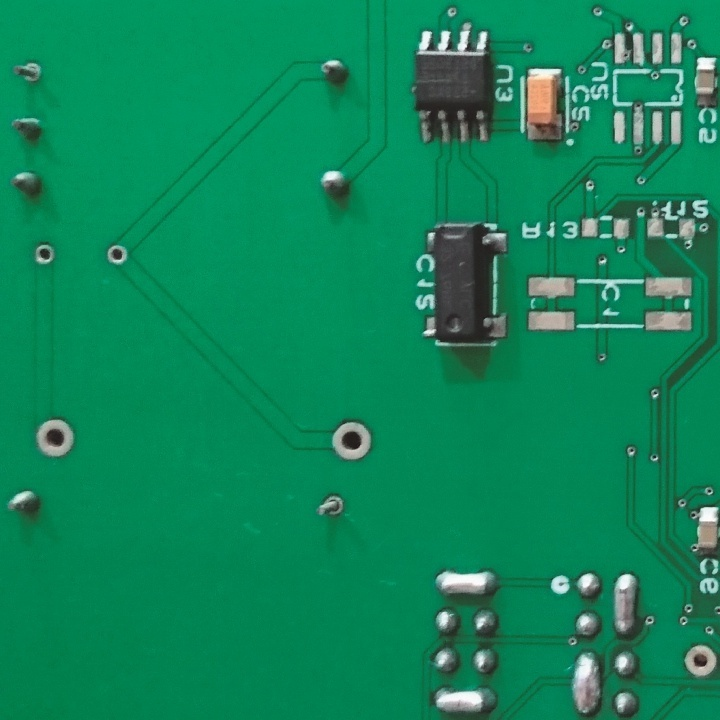F: (326, 415, 375, 464), (31, 417, 78, 461), (679, 641, 720, 683), (10, 57, 46, 92), (309, 492, 344, 521), (33, 240, 58, 272), (104, 241, 127, 269)
P: (428, 682, 503, 720), (431, 566, 510, 601), (568, 645, 604, 719), (610, 570, 641, 640)
